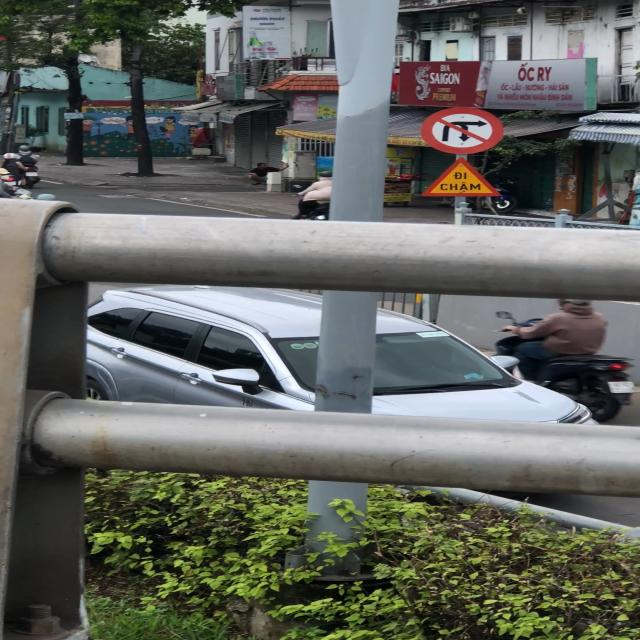Bien bao cam re phai va quay dau: (419, 105, 507, 156)
Bien bao di cham: (417, 156, 504, 201)
